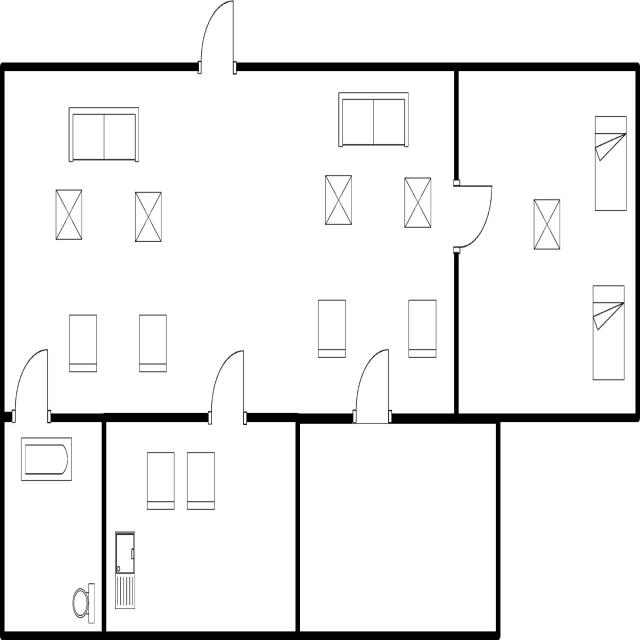bed: (588, 278, 628, 386), (592, 111, 630, 218)
coffee_table: (51, 184, 85, 246), (131, 186, 165, 248), (402, 172, 436, 234), (530, 193, 564, 254), (322, 170, 356, 230)
large_sink: (70, 578, 98, 628)
large_sofa: (65, 102, 141, 170), (334, 87, 410, 153)
sink: (111, 526, 138, 615)
small_sofa: (404, 293, 440, 365), (142, 446, 178, 516), (315, 293, 349, 365), (66, 308, 100, 378), (184, 446, 218, 516), (136, 308, 170, 377)
tub: (17, 430, 74, 490)
